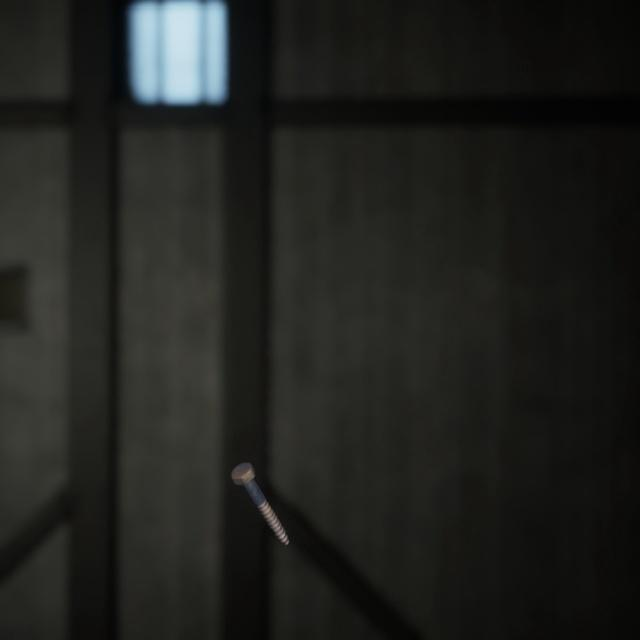bolt: (226, 436, 293, 528)
